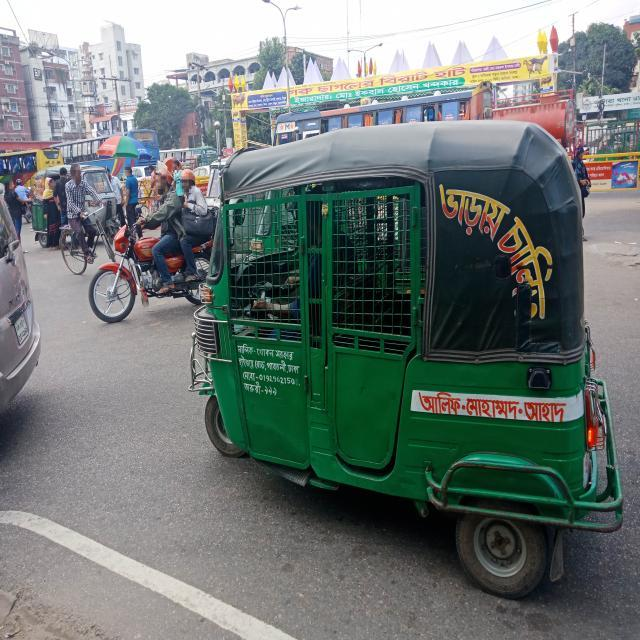CNG: (192, 117, 625, 605)
